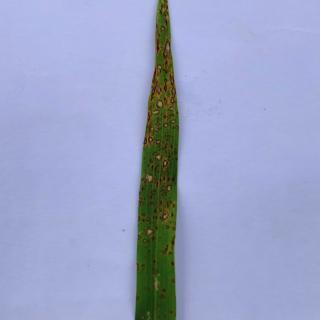Blast: (138, 261, 182, 315), (153, 224, 186, 260), (147, 174, 185, 196), (133, 201, 154, 238), (161, 36, 175, 66), (142, 166, 158, 192), (141, 110, 158, 131), (159, 154, 173, 169), (159, 206, 172, 222), (152, 80, 164, 96), (143, 132, 155, 146), (162, 142, 176, 153), (161, 110, 172, 122), (161, 80, 171, 93), (169, 199, 177, 210)
